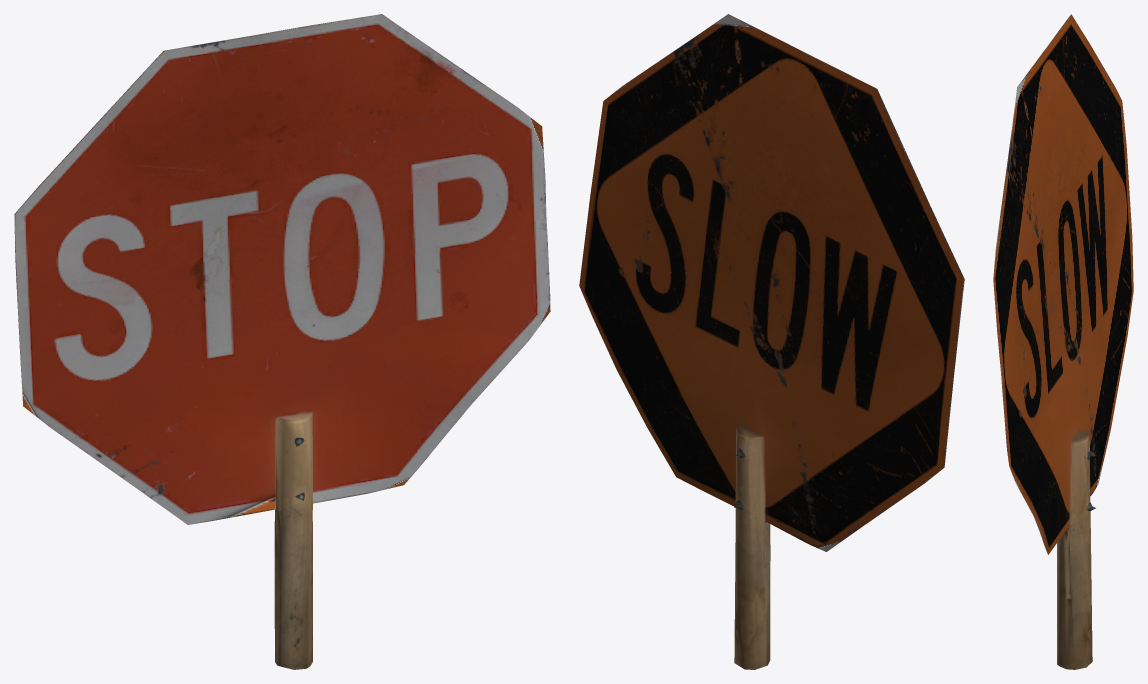
File: SM_StreetSign.glb
The picture shows the model from 3 angles, left to right: view 1: azimuth 30°, elevation 25°; view 2: azimuth 150°, elevation 25°; view 3: azimuth 270°, elevation 25°; orthographic projection. The views are drawn at different scales.
Visible parts, largest first — view 1: SM_StreetSign; view 2: SM_StreetSign; view 3: SM_StreetSign.
Part boxes in pixels (<box>): SM_StreetSign: <box>14,14,550,669</box>; SM_StreetSign: <box>579,14,964,669</box>; SM_StreetSign: <box>993,14,1133,669</box>.
Size of the model in its own units: 0.2291 by 0.3034 by 0.0642.
1 material, 1 textured.
